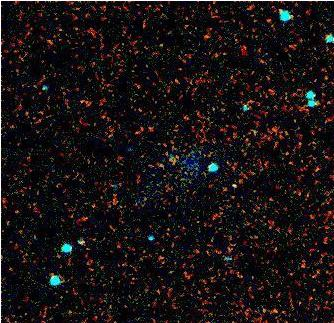star: (219, 170, 249, 200)
